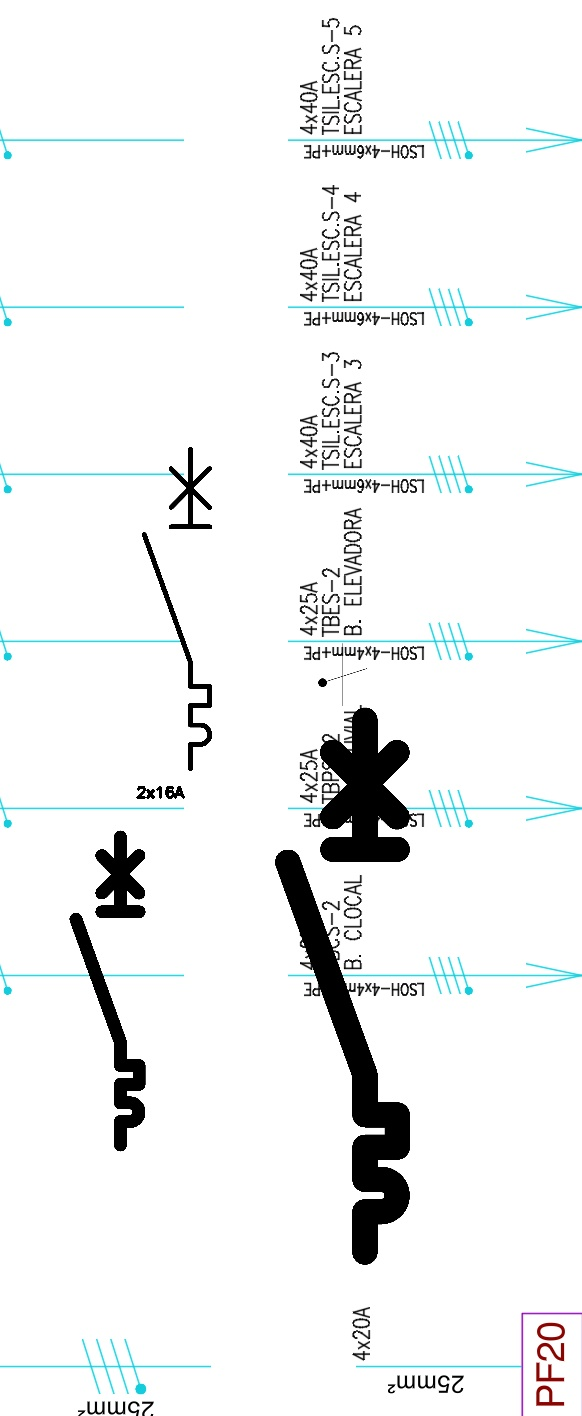interruptor_termomagnetico: (274, 706, 411, 1266), (136, 441, 218, 777), (68, 829, 147, 1153)
